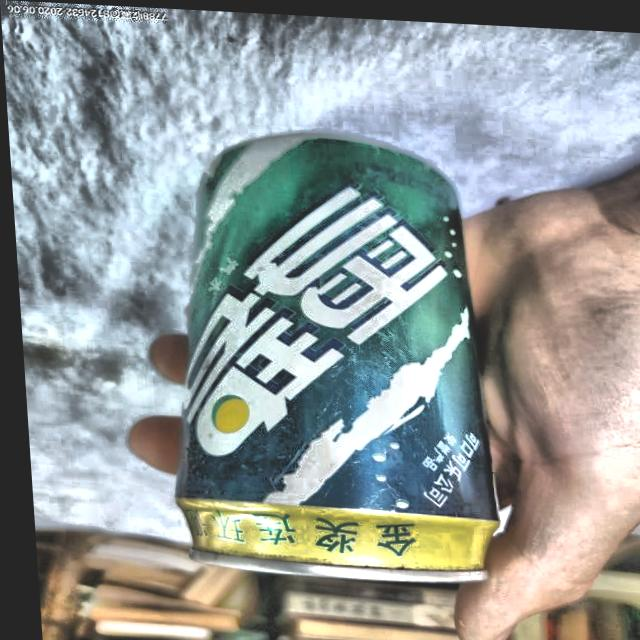can: (138, 117, 504, 592)
